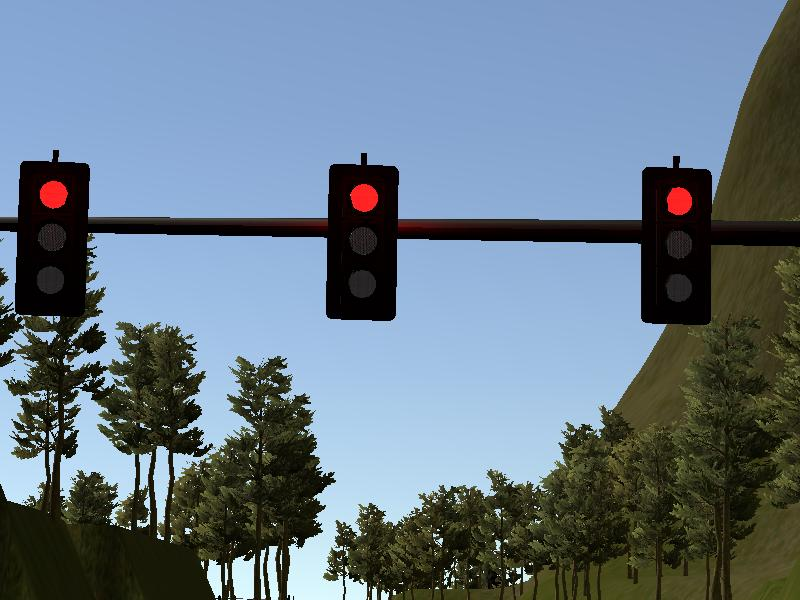red: (638, 165, 713, 327), (327, 162, 399, 322), (18, 159, 87, 318)
